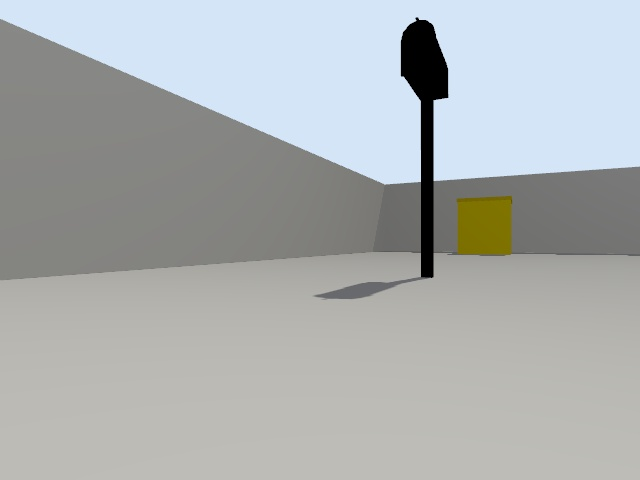boite_lettres: (401, 18, 447, 277)
